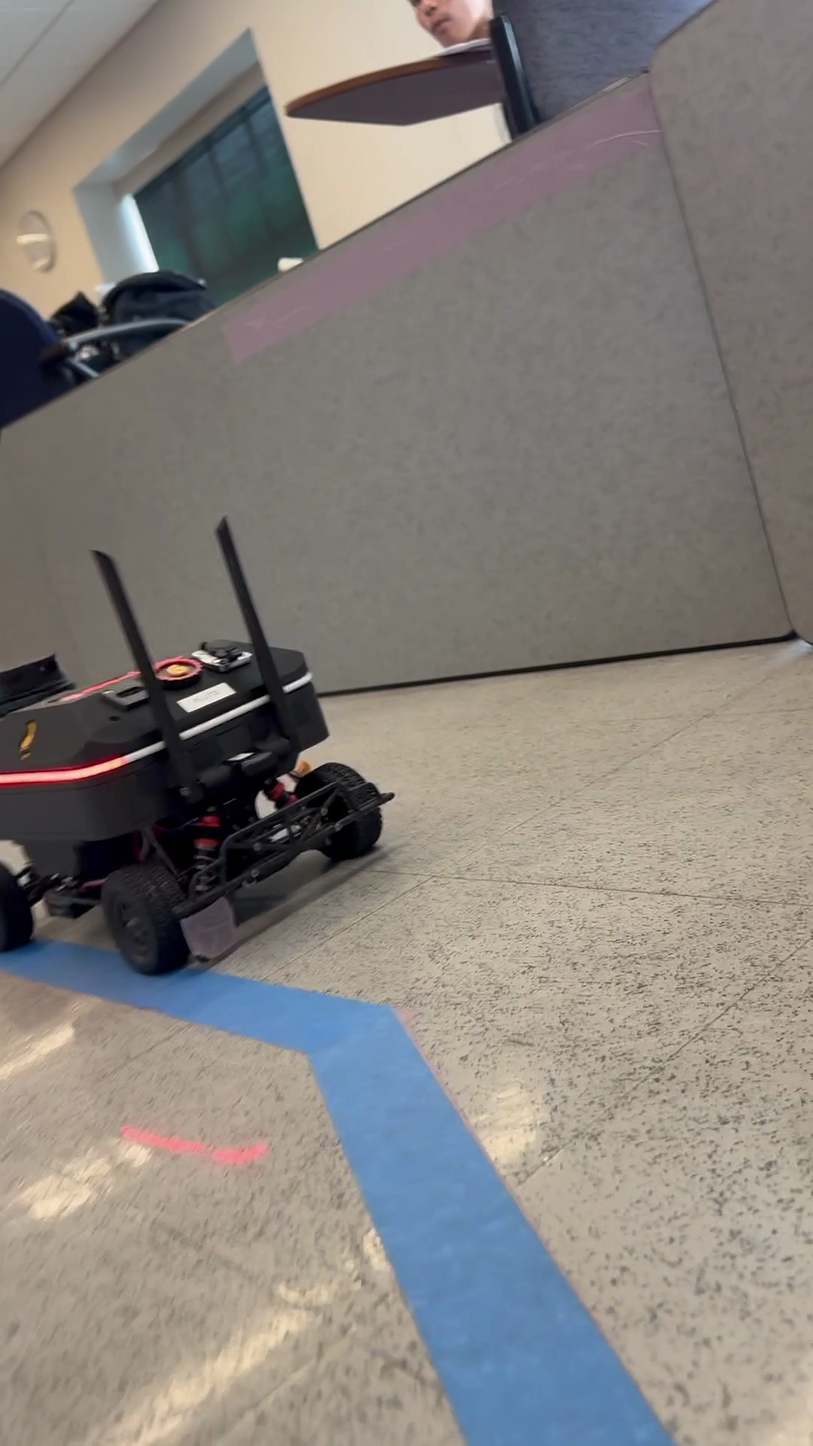racecar: (0, 513, 392, 973)
